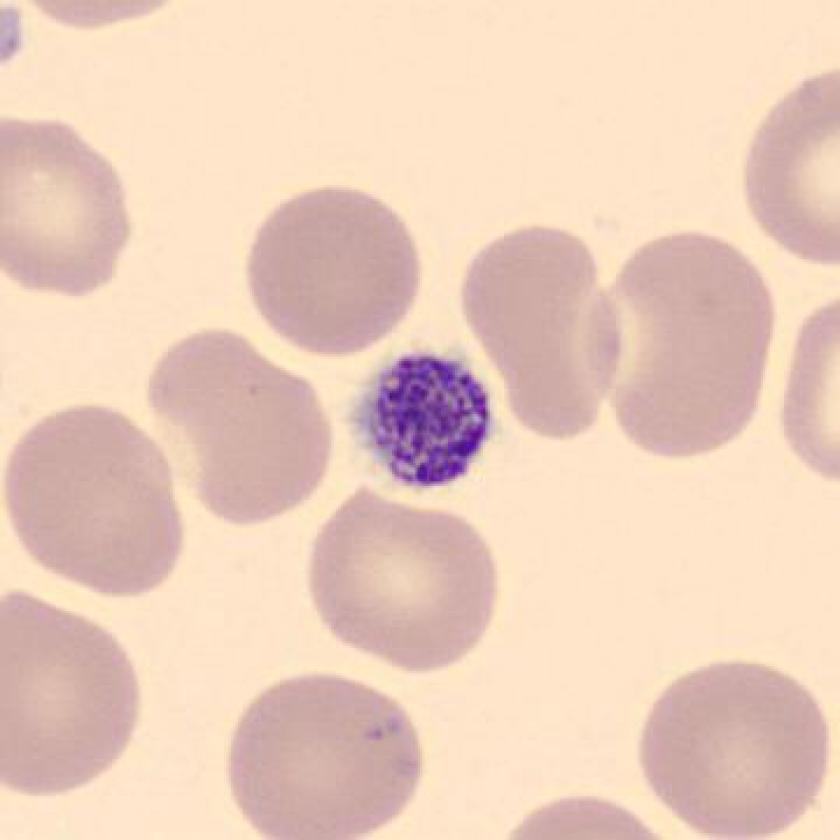platelets: (346, 341, 505, 506)
